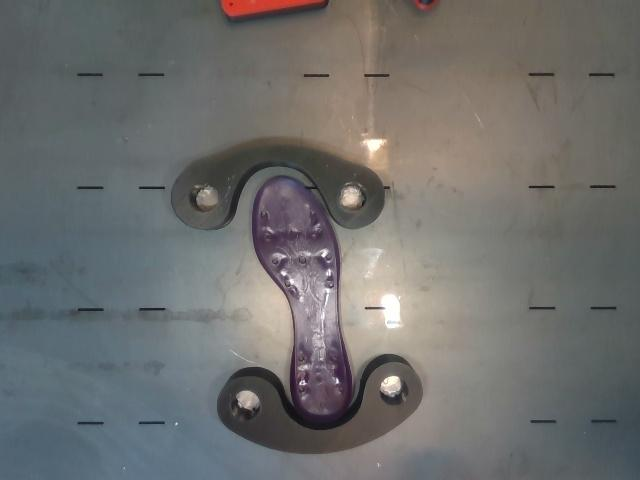shoes: (252, 177, 352, 422)
